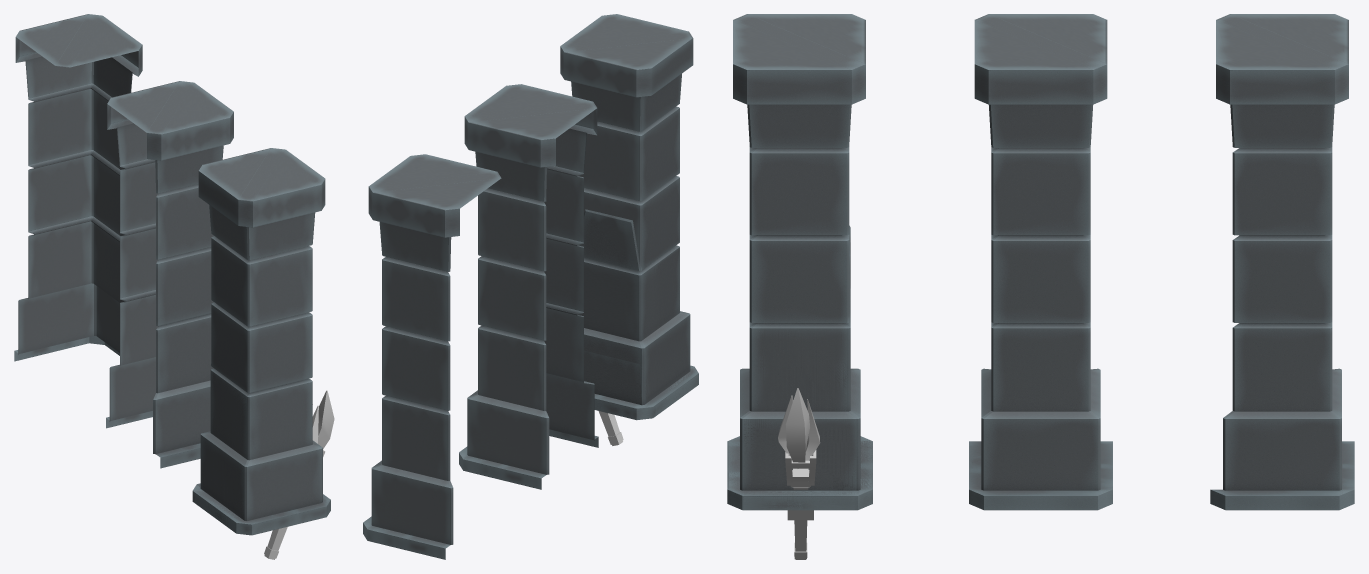
The model's file is Decorations.fbx.
The picture shows the model from 3 angles, left to right: view 1: azimuth 30°, elevation 25°; view 2: azimuth 150°, elevation 25°; view 3: azimuth 270°, elevation 25°; orthographic projection. The views are drawn at different scales.
Visible parts, largest first — view 1: PillarFull, PillarFull.001, PillarFull.002, PullarHalf, Torch, PillarQuarter; view 2: PillarFull.001, PillarFull.002, PillarFull, PullarHalf, PillarQuarter, Torch; view 3: PillarFull.001, PillarFull.002, PillarFull, PullarHalf, PillarQuarter, Torch.
Boxes of the visible parts, x1,y1,x2,y2 form: PillarFull: (196, 148, 330, 535); PillarFull.001: (106, 81, 233, 468); PillarFull.002: (14, 14, 142, 361); PullarHalf: (193, 364, 330, 532); Torch: (264, 390, 334, 559); PillarQuarter: (192, 483, 240, 532); PillarFull.001: (459, 84, 598, 489); PillarFull.002: (363, 154, 501, 559); PillarFull: (560, 14, 698, 408); PullarHalf: (578, 209, 693, 416); PillarQuarter: (584, 350, 698, 420); Torch: (598, 411, 623, 445); PillarFull.001: (969, 14, 1112, 510); PillarFull.002: (1210, 14, 1354, 510); PillarFull: (727, 14, 871, 510); PullarHalf: (732, 225, 860, 510); PillarQuarter: (729, 436, 872, 510); Torch: (778, 388, 820, 559).
Bounding box in the file's own units: 146 × 467 × 519.
